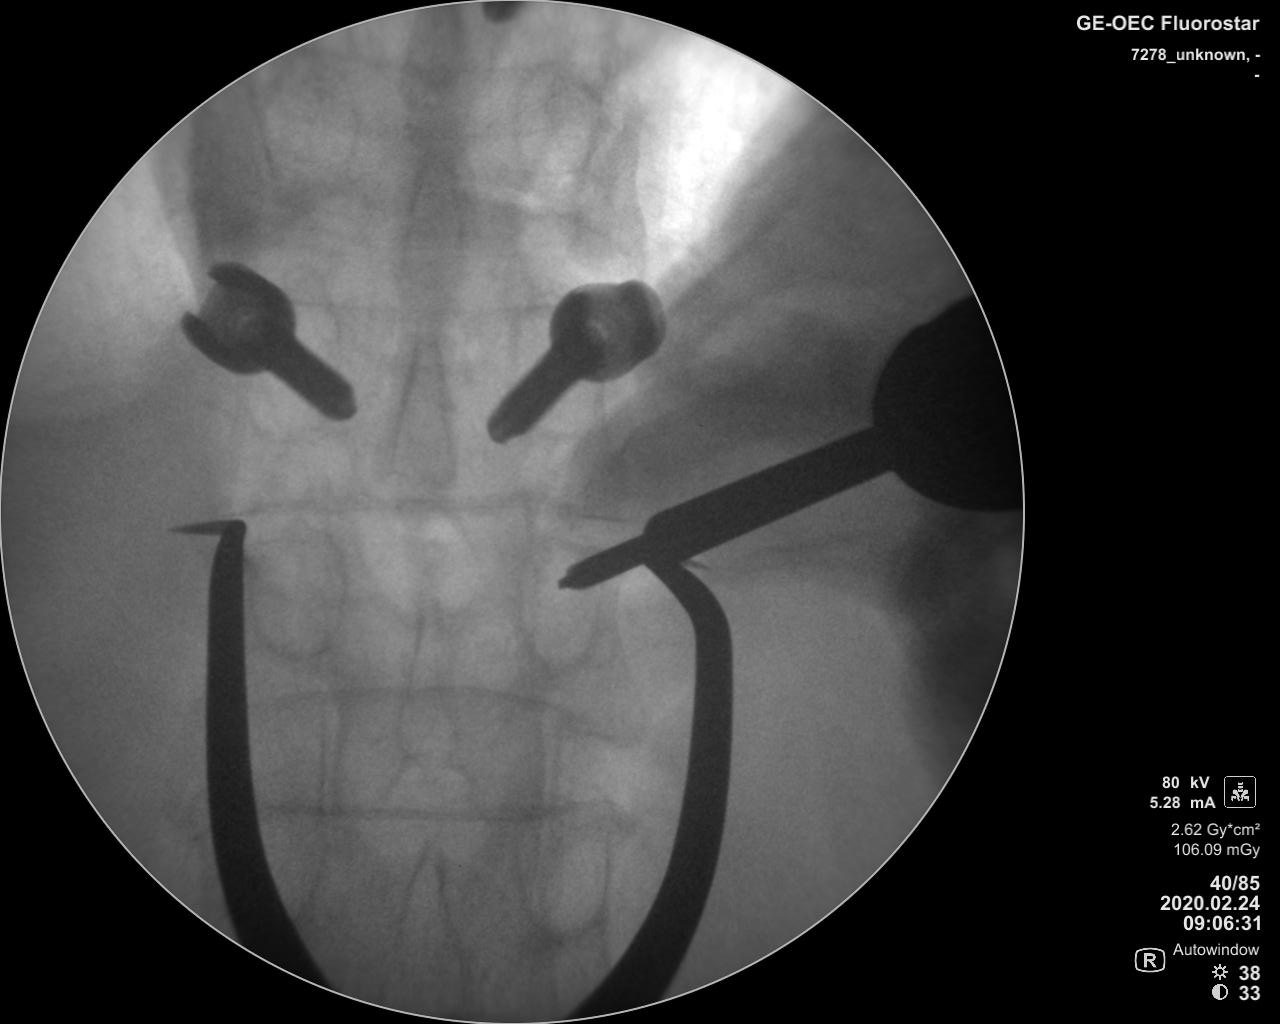eyes: (241, 301, 338, 449), (247, 513, 343, 660), (509, 304, 605, 441), (508, 57, 599, 199), (263, 64, 359, 193), (518, 799, 608, 937), (518, 535, 604, 674)
line: (239, 493, 616, 527), (246, 685, 610, 719), (257, 792, 566, 829), (293, 290, 553, 321)
nose: (387, 833, 469, 1014), (389, 577, 457, 766), (387, 332, 458, 507), (395, 148, 465, 321), (403, 11, 476, 150)
